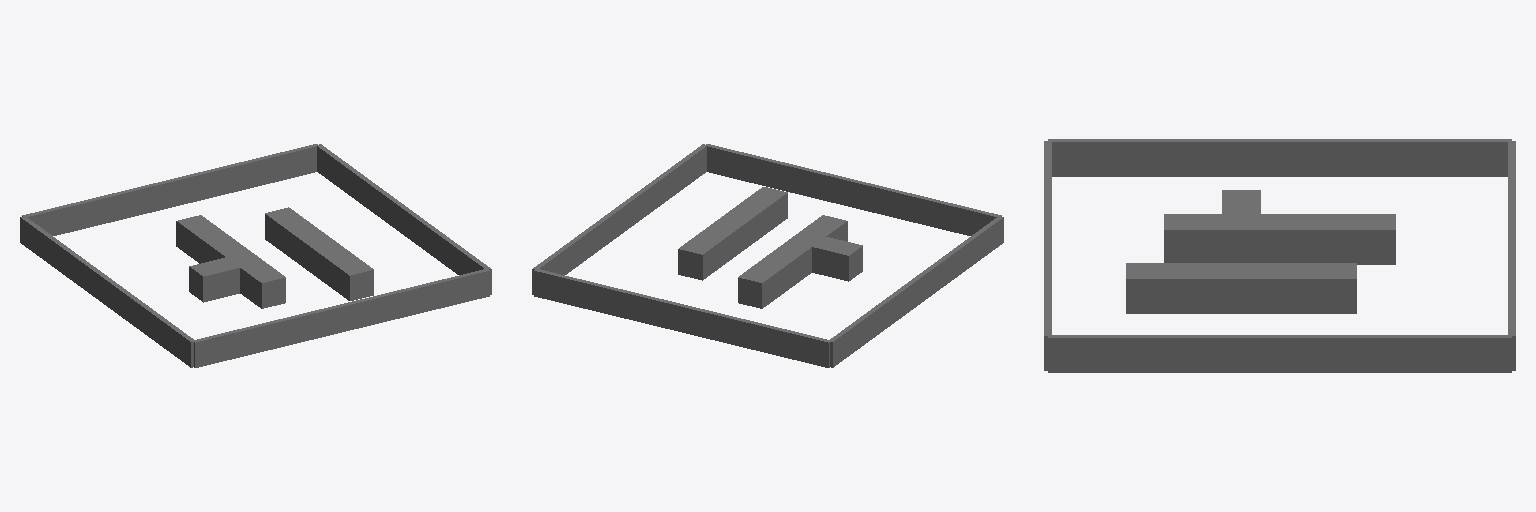
The robot description file, URDF, robot "plane":
<?xml version="0.0" ?>
<robot name="plane">
  <link name="planeLink">
  <contact>
      <lateral_friction value="1"/>
  </contact>
    <inertial>
      <origin rpy="0 0 0" xyz="0 0 0"/>
       <mass value=".0"/>
       <inertia ixx="0" ixy="0" ixz="0" iyy="0" iyz="0" izz="0"/>
    </inertial>
    <visual>
      <origin rpy="0 0 0" xyz="0 0 0"/>
      <geometry>
				<mesh filename="plane100.obj" scale="1 1 1"/>
      </geometry>
       <material name="white">
        <color rgba="1 1 1 1"/>
      </material>
    </visual>
    <collision>
      <origin rpy="0 0 0" xyz="0 0 -5"/>
      <geometry>
	 	<box size="200 200 10"/>
      </geometry>
    </collision>
  </link>

  <joint name="box_2_joint" type="fixed">
    <origin rpy="0 0 0" xyz="0 0 0.05"/>
    <parent link="planeLink"/>
    <child link="box_2"/>
  </joint>

  <link name="box_2">
  	<visual>
      <origin rpy="0 0 0" xyz="-2 -0.5 0"/>
      <geometry>
	 	<box size="1 0.5 0.5"/>
      </geometry>
      <material name="grey">
	    <color rgba="0.5 0.5 0.5 1"/>
	  </material>
    </visual>
    <collision>
      <origin rpy="0 0 0" xyz="-2 -0.5 0"/>
      <geometry>
	 	<box size="1 0.5 0.5"/>
      </geometry>
    </collision>
    <inertial>
      <mass value="1"/>
      <inertia ixx="0.0" ixy="0.0" ixz="0.0" iyy="0.0" iyz="0.0" izz="0.0"/>
    </inertial>
  </link>
  
    <joint name="box_1_joint" type="fixed">
      <origin rpy="0 0 0" xyz="0 0 0.05"/>
      <parent link="planeLink"/>
      <child link="box_1"/>
    </joint>

    <link name="box_1">
    	<visual>
        <origin rpy="0 0 0" xyz="-1.5 0 0"/>
        <geometry>
  	 	<box size="0.5 3 0.5"/>
        </geometry>
        <material name="grey">
  	    <color rgba="0.5 0.5 0.5 1"/>
  	  </material>
      </visual>
      <collision>
        <origin rpy="0 0 0" xyz="-1.5 0 0"/>
        <geometry>
  	 	<box size="0.5 3 0.5"/>
        </geometry>
      </collision>
      <inertial>
        <mass value="1"/>
        <inertia ixx="0.0" ixy="0.0" ixz="0.0" iyy="0.0" iyz="0.0" izz="0.0"/>
      </inertial>
    </link>
    
    <joint name="box_3_joint" type="fixed">
      <origin rpy="0 0 0" xyz="0 0 0.05"/>
      <parent link="planeLink"/>
      <child link="box_3"/>
    </joint>

    <link name="box_3">
    	<visual>
        <origin rpy="0 0 0" xyz="0 -0.5 0"/>
        <geometry>
  	 	<box size="0.5 3 0.5"/>
        </geometry>
        <material name="grey">
  	    <color rgba="0.5 0.5 0.5 1"/>
  	  </material>
      </visual>
      <collision>
        <origin rpy="0 0 0" xyz="0 -0.5 0"/>
        <geometry>
  	 	<box size="0.5 3 0.5"/>
        </geometry>
      </collision>
      <inertial>
        <mass value="1"/>
        <inertia ixx="0.0" ixy="0.0" ixz="0.0" iyy="0.0" iyz="0.0" izz="0.0"/>
      </inertial>
    </link>
    
    
    <joint name="wall_1_joint" type="fixed">
      <origin rpy="0 0 0" xyz="0 0 0.05"/>
      <parent link="planeLink"/>
      <child link="wall_1"/>
    </joint>

    <link name="wall_1">
    	<visual>
        <origin rpy="0 0 0" xyz="-4 0 0"/>
        <geometry>
  	 	<box size="0.1 6 0.5"/>
        </geometry>
        <material name="grey">
  	    <color rgba="0.5 0.5 0.5 1"/>
  	  </material>
      </visual>
      <collision>
        <origin rpy="0 0 0" xyz="-4 0 0"/>
        <geometry>
  	 	<box size="0.1 6 0.5"/>
        </geometry>
      </collision>
      <inertial>
        <mass value="1"/>
        <inertia ixx="0.0" ixy="0.0" ixz="0.0" iyy="0.0" iyz="0.0" izz="0.0"/>
      </inertial>
    </link>    

    <joint name="wall_2_joint" type="fixed">
      <origin rpy="0 0 0" xyz="0 0 0.05"/>
      <parent link="planeLink"/>
      <child link="wall_2"/>
    </joint>

    <link name="wall_2">
    	<visual>
        <origin rpy="0 0 0" xyz="2 0 0"/>
        <geometry>
  	 	<box size="0.1 6 0.5"/>
        </geometry>
        <material name="grey">
  	    <color rgba="0.5 0.5 0.5 1"/>
  	  </material>
      </visual>
      <collision>
        <origin rpy="0 0 0" xyz="2 0 0"/>
        <geometry>
  	 	<box size="0.1 6 0.5"/>
        </geometry>
      </collision>
      <inertial>
        <mass value="1"/>
        <inertia ixx="0.0" ixy="0.0" ixz="0.0" iyy="0.0" iyz="0.0" izz="0.0"/>
      </inertial>
    </link>    

    <joint name="wall_3_joint" type="fixed">
      <origin rpy="0 0 0" xyz="0 0 0.05"/>
      <parent link="planeLink"/>
      <child link="wall_3"/>
    </joint>

    <link name="wall_3">
    	<visual>
        <origin rpy="0 0 0" xyz="-1 3 0"/>
        <geometry>
  	 	<box size="6 0.1 0.5"/>
        </geometry>
        <material name="grey">
  	    <color rgba="0.5 0.5 0.5 1"/>
  	  </material>
      </visual>
      <collision>
        <origin rpy="0 0 0" xyz="-1 3 0"/>
        <geometry>
  	 	<box size="6 0.1 0.5"/>
        </geometry>
      </collision>
      <inertial>
        <mass value="1"/>
        <inertia ixx="0.0" ixy="0.0" ixz="0.0" iyy="0.0" iyz="0.0" izz="0.0"/>
      </inertial>
    </link>    
    
    <joint name="wall_4_joint" type="fixed">
      <origin rpy="0 0 0" xyz="0 0 0.05"/>
      <parent link="planeLink"/>
      <child link="wall_4"/>
    </joint>

    <link name="wall_4">
    	<visual>
        <origin rpy="0 0 0" xyz="-1 -3 0"/>
        <geometry>
  	 	<box size="6 0.1 0.5"/>
        </geometry>
        <material name="grey">
  	    <color rgba="0.5 0.5 0.5 1"/>
  	  </material>
      </visual>
      <collision>
        <origin rpy="0 0 0" xyz="-1 -3 0"/>
        <geometry>
  	 	<box size="6 0.1 0.5"/>
        </geometry>
      </collision>
      <inertial>
        <mass value="1"/>
        <inertia ixx="0.0" ixy="0.0" ixz="0.0" iyy="0.0" iyz="0.0" izz="0.0"/>
      </inertial>
    </link>    
    
</robot>

--- Facts derived from the render (not from the file) ---
Views: 3 orthographic renders of the robot side by side, from view 1: azimuth 30°, elevation 25°; view 2: azimuth 150°, elevation 25°; view 3: azimuth 270°, elevation 25°.
Robot: plane — 8 links, 7 joints (7 fixed); root link planeLink; default pose: every joint at zero.
Links seen in each view (by area): view 1: wall_4, wall_3, wall_1, wall_2, box_3, box_1, box_2; view 2: wall_3, wall_4, wall_1, box_3, wall_2, box_1, box_2; view 3: wall_2, wall_1, box_3, box_1, wall_4, wall_3, box_2.
Link boxes in pixels (x1=…): wall_4: x1=193, y1=268, x2=489, y2=367; wall_3: x1=22, y1=144, x2=317, y2=235; wall_1: x1=20, y1=216, x2=194, y2=367; wall_2: x1=317, y1=144, x2=491, y2=294; box_3: x1=265, y1=207, x2=373, y2=300; box_1: x1=176, y1=215, x2=285, y2=308; box_2: x1=189, y1=257, x2=239, y2=302; wall_3: x1=534, y1=269, x2=829, y2=367; wall_4: x1=705, y1=144, x2=1001, y2=235; wall_1: x1=829, y1=216, x2=1003, y2=367; box_3: x1=678, y1=187, x2=787, y2=280; wall_2: x1=532, y1=144, x2=706, y2=294; box_1: x1=738, y1=215, x2=847, y2=308; box_2: x1=808, y1=237, x2=862, y2=281; wall_2: x1=1048, y1=335, x2=1511, y2=372; wall_1: x1=1048, y1=139, x2=1511, y2=176; box_3: x1=1126, y1=263, x2=1356, y2=313; box_1: x1=1164, y1=214, x2=1395, y2=264; wall_4: x1=1044, y1=141, x2=1051, y2=370; wall_3: x1=1508, y1=141, x2=1515, y2=370; box_2: x1=1222, y1=190, x2=1260, y2=221.
Size in the robot's own frame: 6.1 by 6.1 by 0.5 metres.
0 mesh visuals loaded from 1 distinct referenced files (none loaded); not drawn: 1 (reference not matched to a file when rendering).